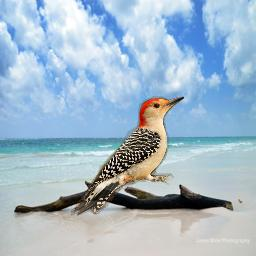Woodpecker: (71, 96, 184, 217)
